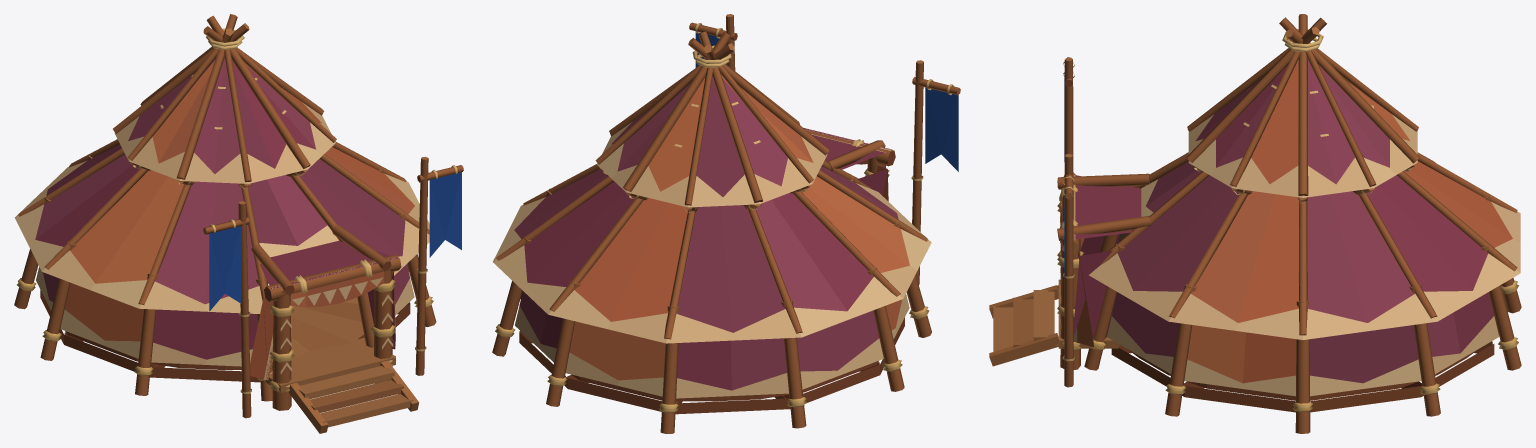
Rendered from burgundy_two_tier_pavilion.glb.
3 renders of one model, left to right at view 1: azimuth 30°, elevation 25°; view 2: azimuth 150°, elevation 25°; view 3: azimuth 270°, elevation 25°, orthographic. The views are drawn at different scales.
Parts seen in each view (by area): view 1: Canvas mesh, Timber mesh, Raised_floor_with_hearth_opening mesh, Lashings_and_Stitches mesh; view 2: Canvas mesh, Timber mesh, Raised_floor_with_hearth_opening mesh, Lashings_and_Stitches mesh; view 3: Canvas mesh, Timber mesh, Raised_floor_with_hearth_opening mesh, Lashings_and_Stitches mesh.
Part boxes in pixels (x1,y1,x2,y2): Canvas mesh: [14, 57, 461, 380]; Timber mesh: [14, 14, 463, 418]; Raised_floor_with_hearth_opening mesh: [40, 282, 419, 433]; Lashings_and_Stitches mesh: [17, 28, 457, 393]; Canvas mesh: [493, 32, 958, 398]; Timber mesh: [492, 14, 960, 433]; Raised_floor_with_hearth_opening mesh: [519, 317, 904, 414]; Lashings_and_Stitches mesh: [495, 23, 953, 412]; Canvas mesh: [1060, 60, 1520, 396]; Timber mesh: [1057, 14, 1521, 433]; Raised_floor_with_hearth_opening mesh: [989, 279, 1494, 412]; Lashings_and_Stitches mesh: [1057, 29, 1518, 411].
Size of the model in its own units: 7.77 by 5.98 by 9.02.
